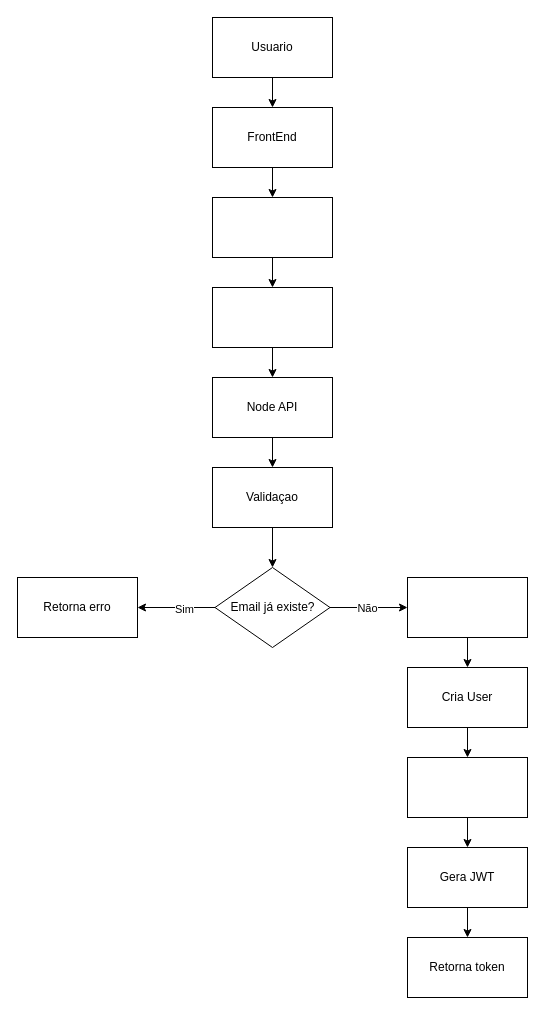
The diagram is 545 pixels wide and 1015 high, and some of its shapes have lost their labels. Each missing label, with the centre of its shape:
"Cria Progress" belongs at point 467,787.
"Envia requisição" belongs at point 272,317.
"Formulario de cadastro" belongs at point 272,227.
"Hash da senha" belongs at point 467,607.
